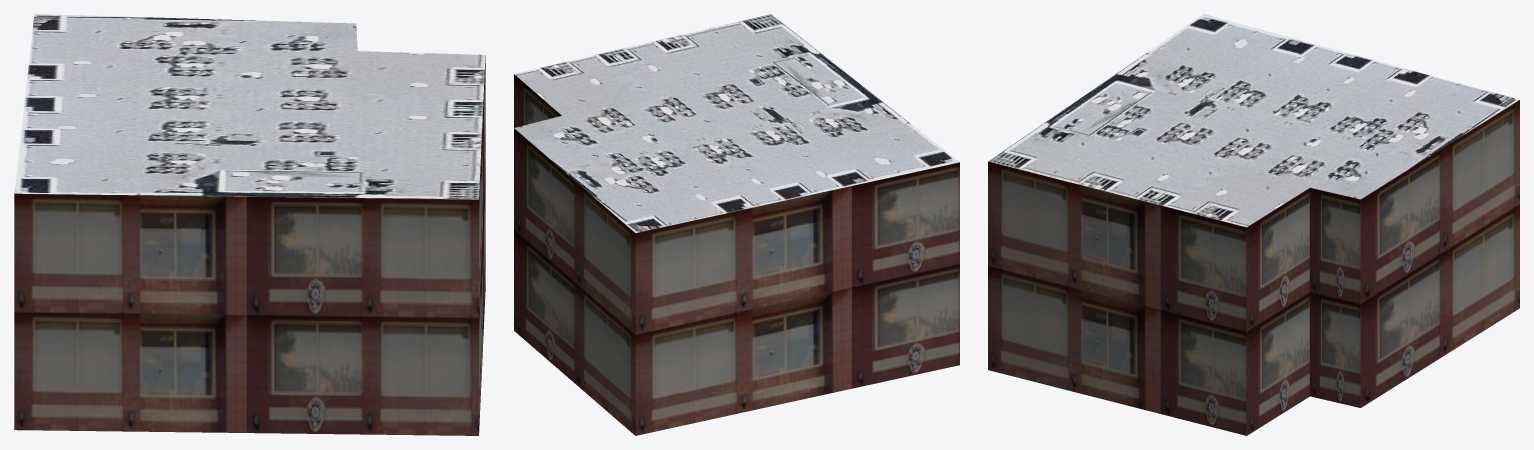
File: ResTex__5213.fbx
3 views of the same model, side by side, from view 1: azimuth 30°, elevation 25°; view 2: azimuth 150°, elevation 25°; view 3: azimuth 270°, elevation 25° (orthographic). The views are drawn at different scales.
Visible parts, largest first — view 1: CityEngineMaterial_13_m, CityEngineMaterial_4_m; view 2: CityEngineMaterial_13_m, CityEngineMaterial_4_m; view 3: CityEngineMaterial_13_m, CityEngineMaterial_4_m.
Part boxes in pixels (left/top/right/bottom): CityEngineMaterial_13_m: left=14, top=56, right=485, bottom=435; CityEngineMaterial_4_m: left=14, top=14, right=485, bottom=199; CityEngineMaterial_13_m: left=514, top=74, right=959, bottom=435; CityEngineMaterial_4_m: left=514, top=14, right=959, bottom=232; CityEngineMaterial_13_m: left=988, top=100, right=1519, bottom=435; CityEngineMaterial_4_m: left=988, top=14, right=1519, bottom=227.
Bounding box in the file's own units: 13.16 × 6 × 13.86.
2 materials, 2 textured.
